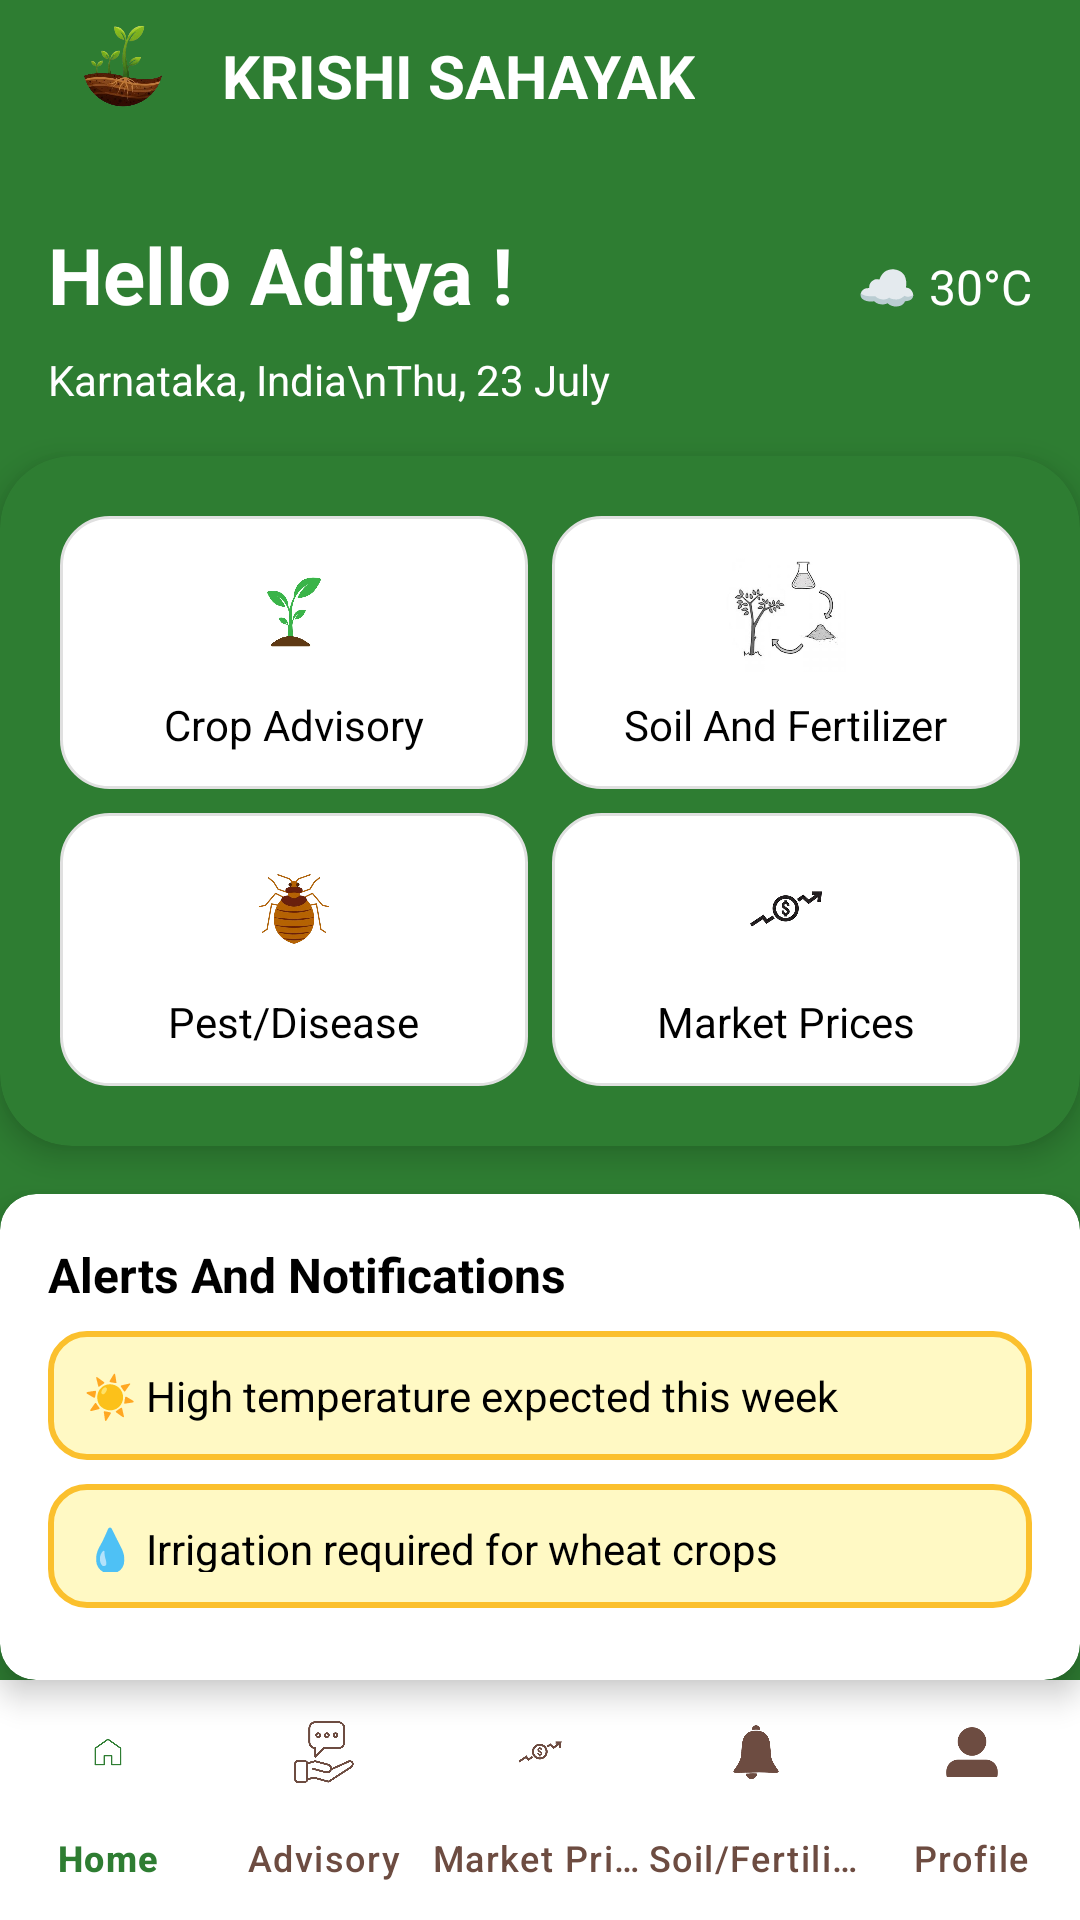

Icons on this 1080x1920 Android screen, each with the point to tap as (x=x, y=y):
fertillizer: (x=785, y=608)
krishi images: (x=123, y=66)
